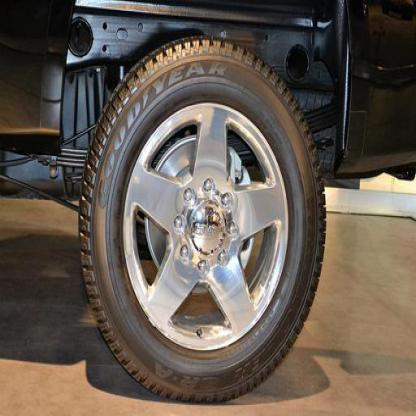Tire: (76, 32, 329, 405)
